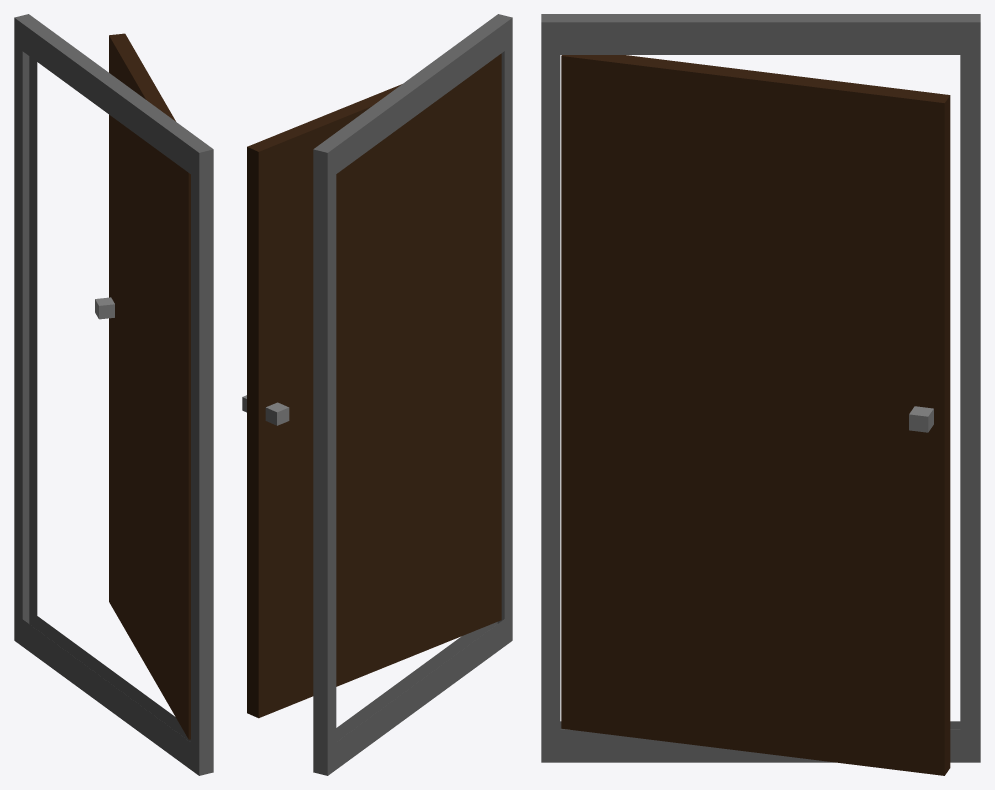
Rendered from (Multi)DoorWIP.fbx.
3 renders of one model, left to right at view 1: azimuth 30°, elevation 25°; view 2: azimuth 150°, elevation 25°; view 3: azimuth 270°, elevation 25°, orthographic. The views are drawn at different scales.
Visible parts, largest first — view 1: Door, Doorframe; view 2: Door, Doorframe; view 3: Door, Doorframe.
Part boxes in pixels (x1=…): Door: x1=95, y1=33, x2=190, y2=739; Doorframe: x1=14, y1=14, x2=213, y2=775; Door: x1=242, y1=53, x2=501, y2=718; Doorframe: x1=313, y1=14, x2=512, y2=775; Door: x1=561, y1=55, x2=950, y2=775; Doorframe: x1=541, y1=14, x2=980, y2=762.
Bounding box in the file's own units: 50.41 × 279 × 150.
